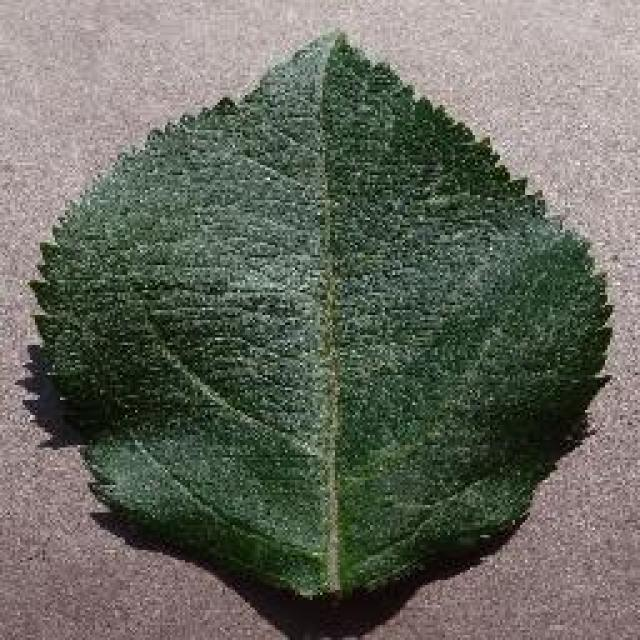apple healthy: (25, 25, 615, 603)
